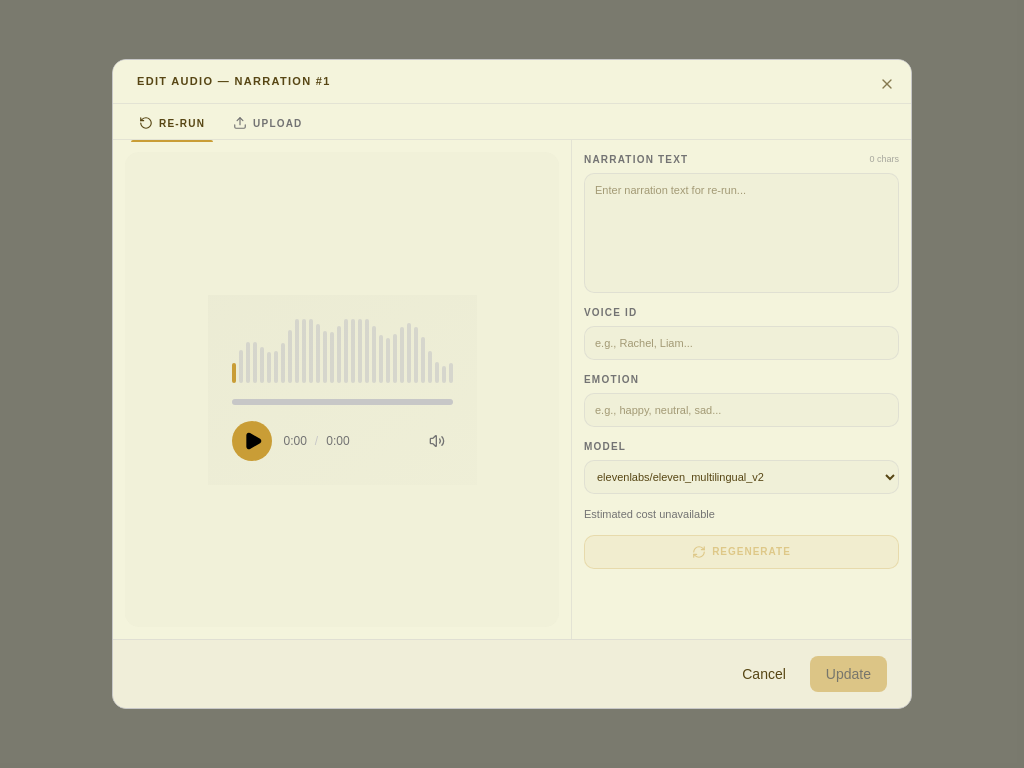
Scenario: AudioEditDialog › switches to Upload tab and shows dropzone
The width and height of the screenshot is (1024, 768).
Click the tab "Upload": coordinates (268, 123) [219,104,316,142]
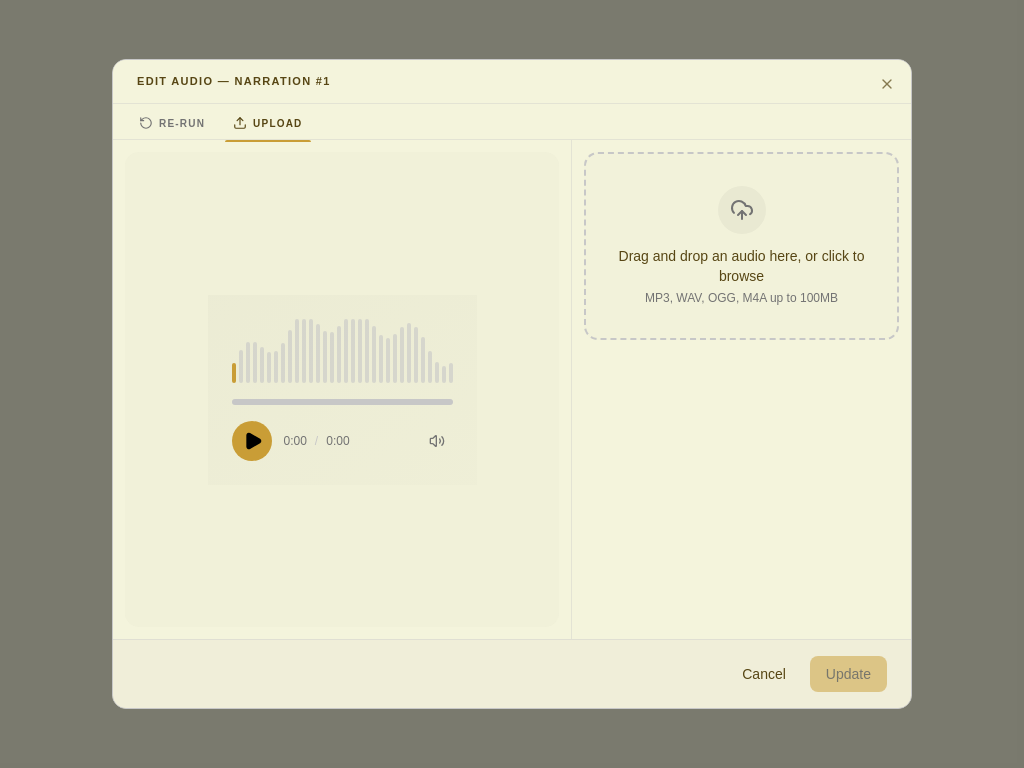
Now the text "Drag and drop an audio here, or click to browse" is shown, box [618,246,865,286]
